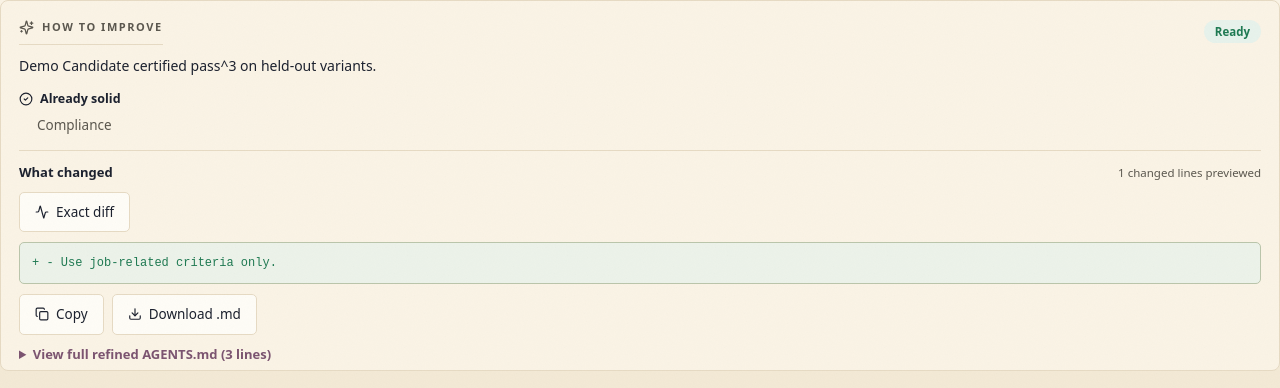
it: ImprovePanel › loads the exact diff only after the user asks for it
This screenshot has width=1280, height=388.
Click the button "Exact diff". click: (75, 212)
box: [19,192,130,232]
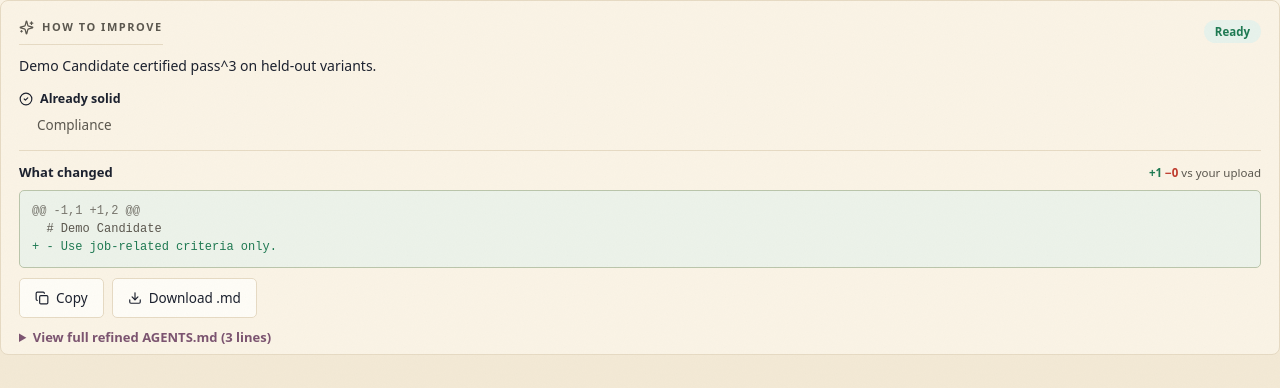
Check: the element named "diff against the uploaded agent.md" shows "+ - Use job-related criteria only.", box [19,190,1261,268]
Check: the text "+1" is shown, box [1149,165,1162,180]
